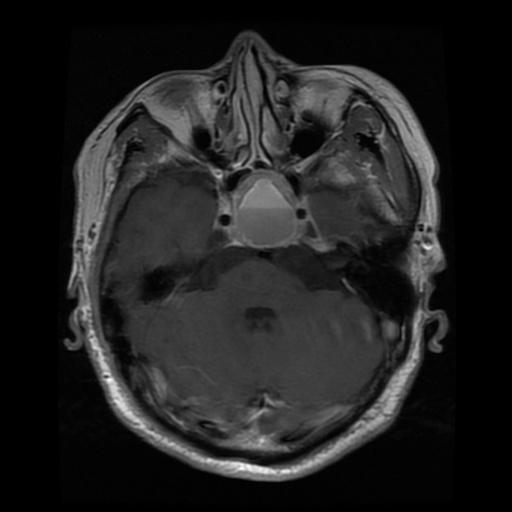pituitary: (230, 167, 305, 249)
